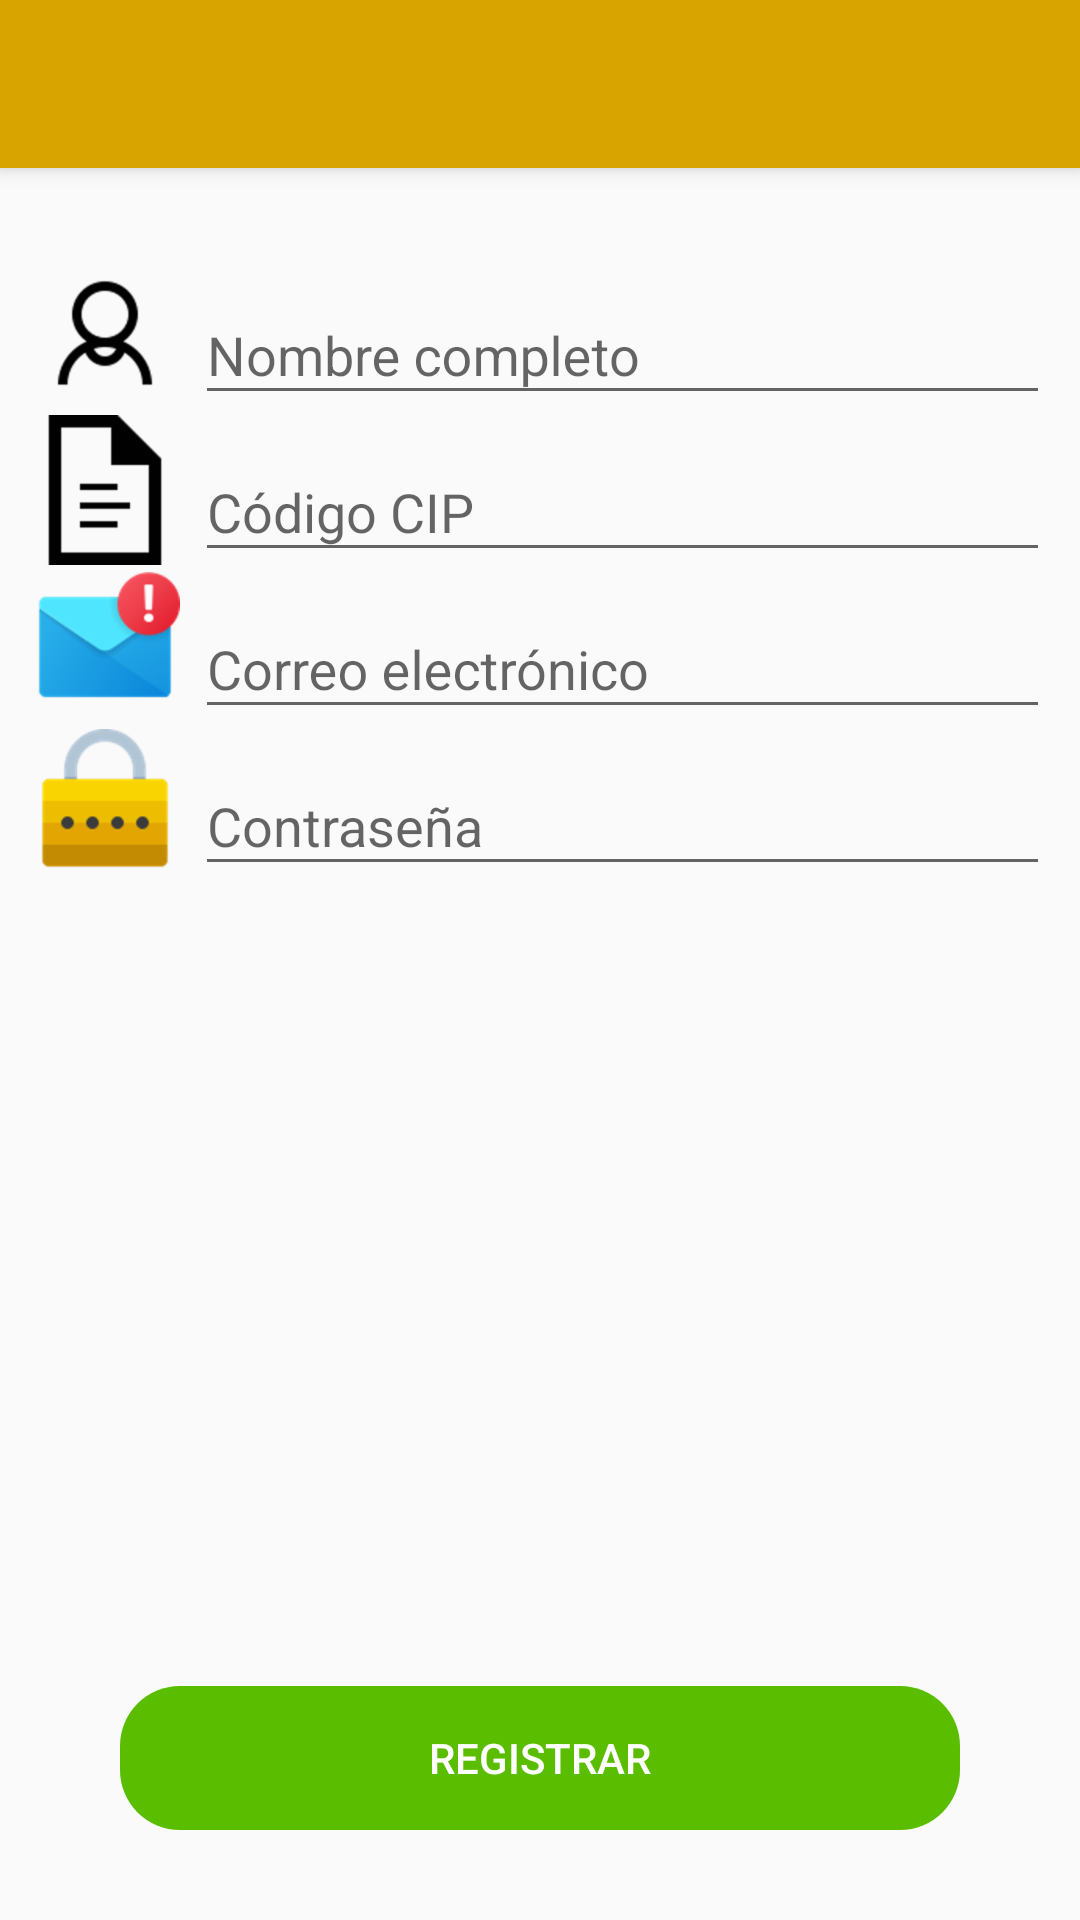

Screen size 1080x1920. Icon name, then its center in pixels as [x,y]:
contrasena: [105,798]
usuario: [105,333]
